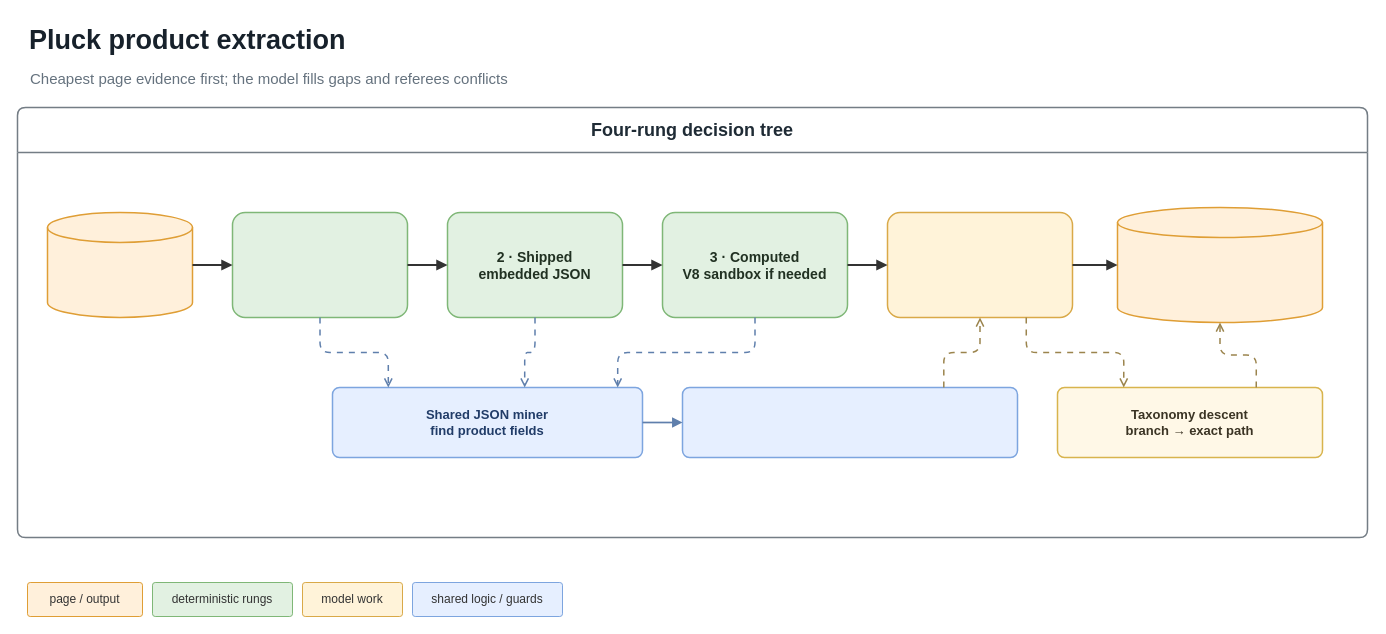
This 1386x634 diagram has some shape labels left out. Here are the shapes that lost their labels. From the top down, the centre of each, then its label:
[119,264]: Raw HTML product page
[319,264]: 1 · Declared JSON-LD
[979,264]: 4 · Inferred gaps, conflicts, category
[1219,264]: Product values + provenance
[849,422]: Field state + price guard keep answers, escalate conflicts
